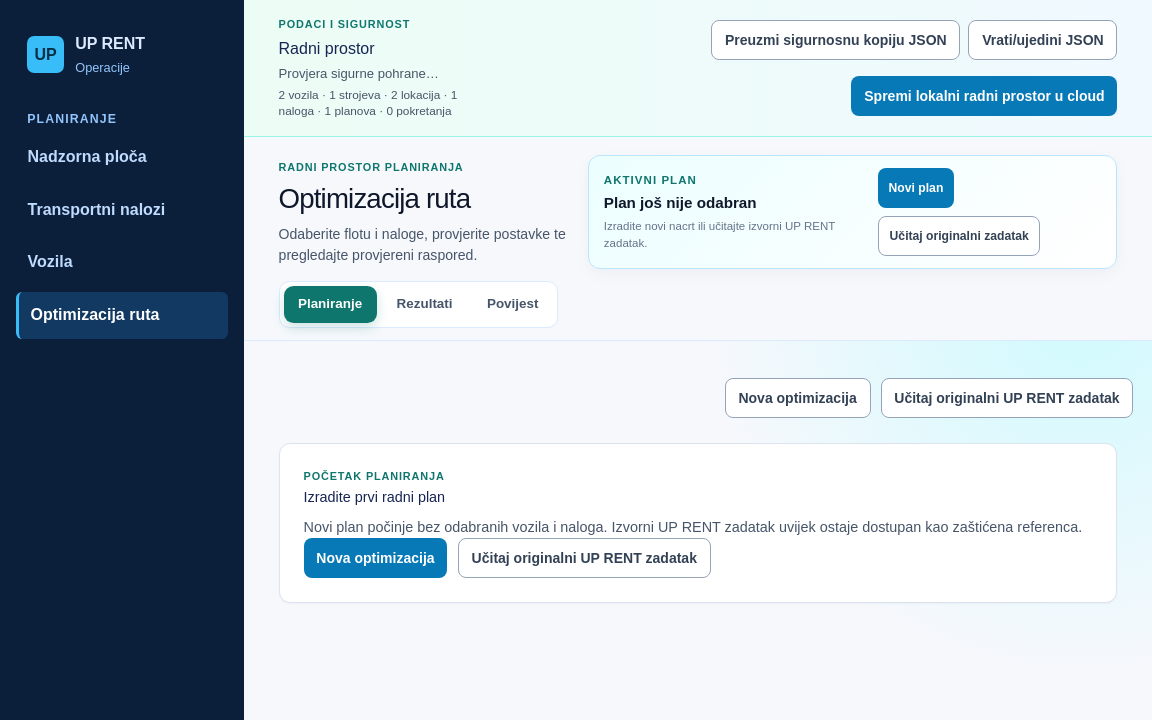
OptimizerDashboard › keeps Povijest discoverable before a plan exists and preserves the planner when switching back
The width and height of the screenshot is (1152, 720).
Expected: the heading "Izradite prvi radni plan" is shown, [304,489,445,505]
Click the tab "Povijest".
click(513, 304)  # box [472,286,553,323]
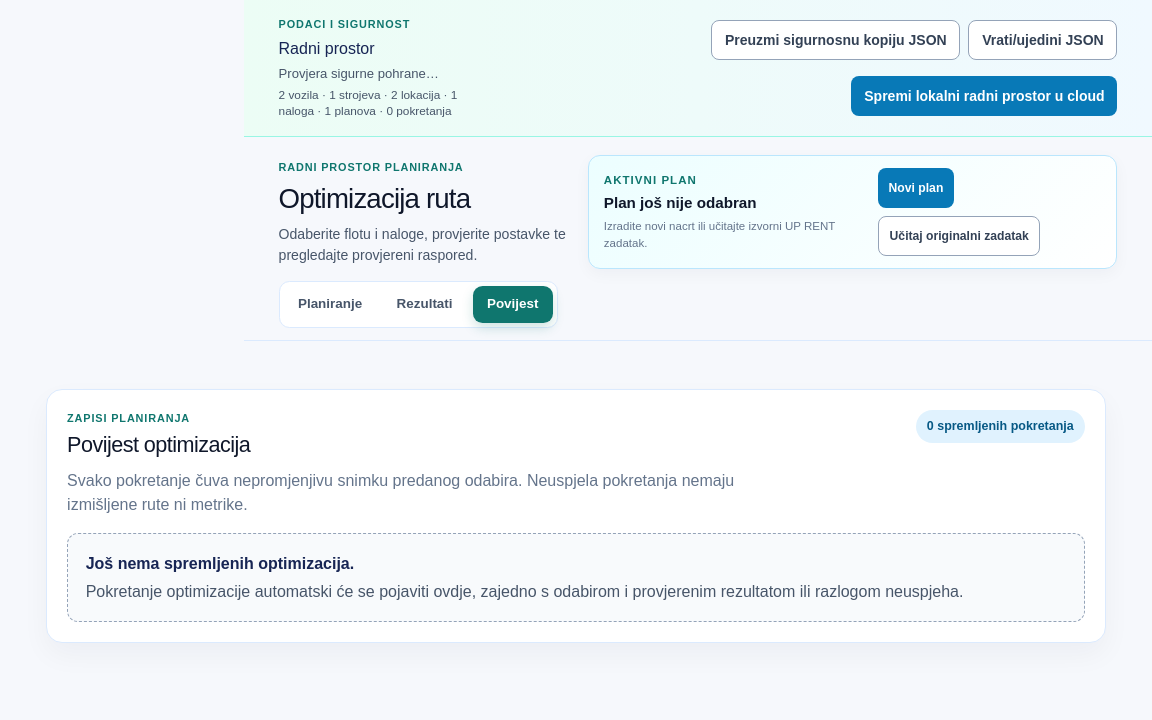
Expected: the text "Još nema spremljenih optimizacija." is shown, [86,555,354,572]
Click the tab "Planiranje".
click(330, 304)  # box [284,286,376,323]
(page scrolled)
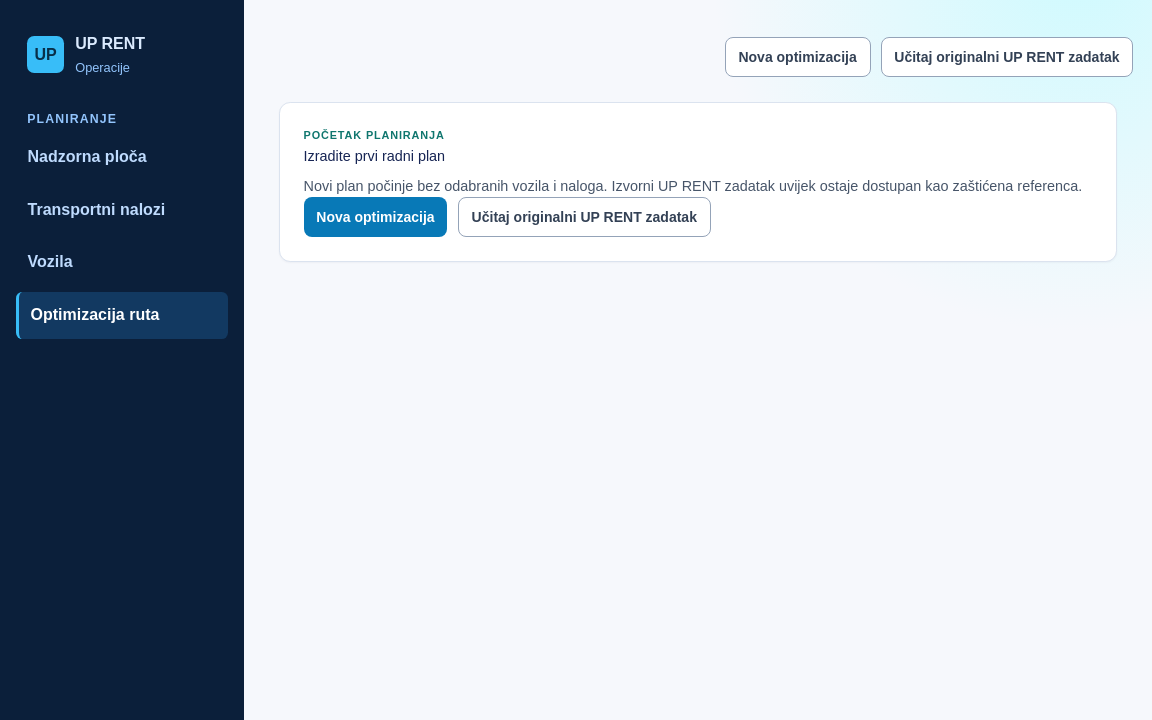
Expected: the heading "Izradite prvi radni plan" is shown, [304,148,445,164]
